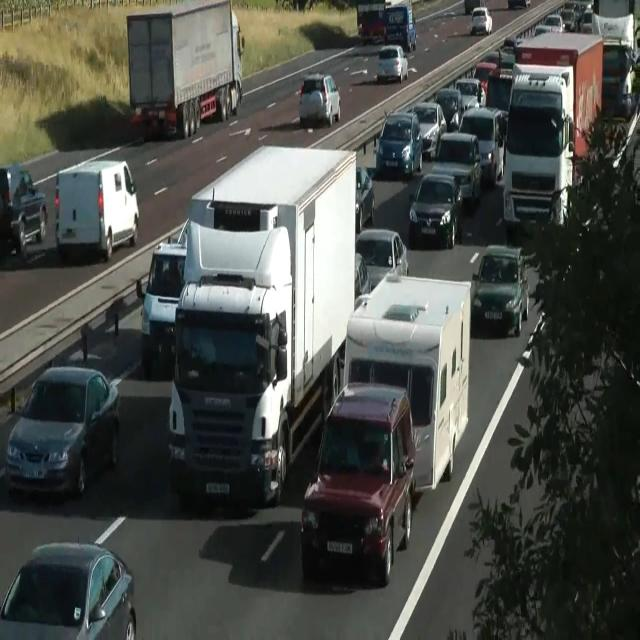bus: (5, 364, 121, 498), (0, 539, 136, 639), (470, 243, 529, 337), (409, 171, 463, 249), (355, 228, 409, 294), (373, 111, 422, 177), (407, 101, 447, 160), (298, 73, 340, 127), (434, 87, 464, 133), (355, 164, 375, 232), (485, 68, 513, 114), (376, 44, 408, 84), (453, 78, 485, 110), (471, 61, 497, 95), (354, 252, 369, 306), (534, 14, 565, 36), (470, 6, 492, 36), (167, 218, 189, 247), (560, 8, 578, 32), (579, 8, 593, 33), (507, 0, 531, 10), (464, 0, 481, 14)
jeep: (300, 380, 416, 586), (53, 158, 139, 260), (136, 239, 187, 366), (0, 162, 48, 260), (458, 105, 506, 186), (432, 130, 482, 203)
minibus: (167, 143, 357, 509), (343, 271, 471, 492), (502, 30, 604, 233), (126, 0, 244, 140), (591, 0, 639, 120), (383, 0, 416, 52), (356, 0, 386, 45)
